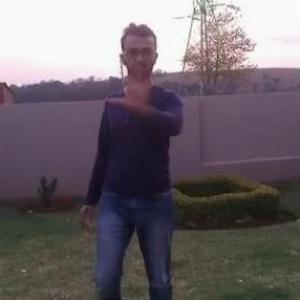follow_hand: (103, 65, 154, 114)
